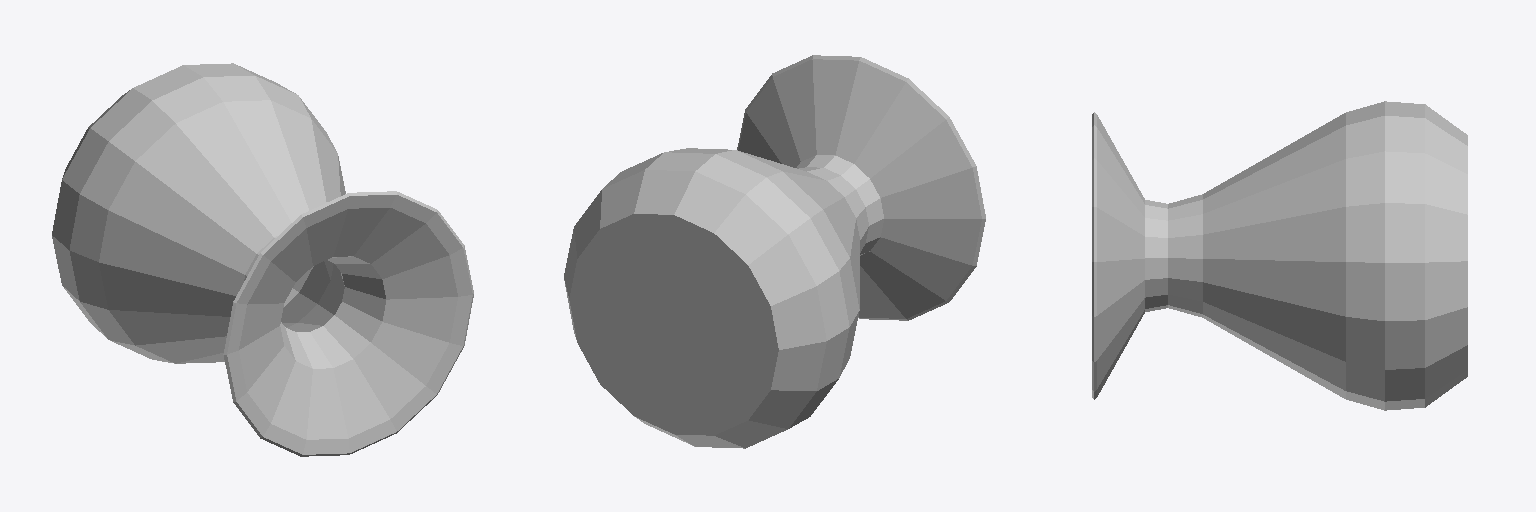
The model's file is urn.obj.
3 views of the same model, side by side, from view 1: azimuth 30°, elevation 25°; view 2: azimuth 150°, elevation 25°; view 3: azimuth 270°, elevation 25° (orthographic).
Parts seen in each view (by area): view 1: urn; view 2: urn; view 3: urn.
Boxes of the visible parts, x1=… form: urn: x1=52, y1=63, x2=473, y2=456; urn: x1=564, y1=55, x2=985, y2=448; urn: x1=1092, y1=101, x2=1467, y2=410.
Bounding box in the file's own units: 4.67 × 4.67 × 5.66.